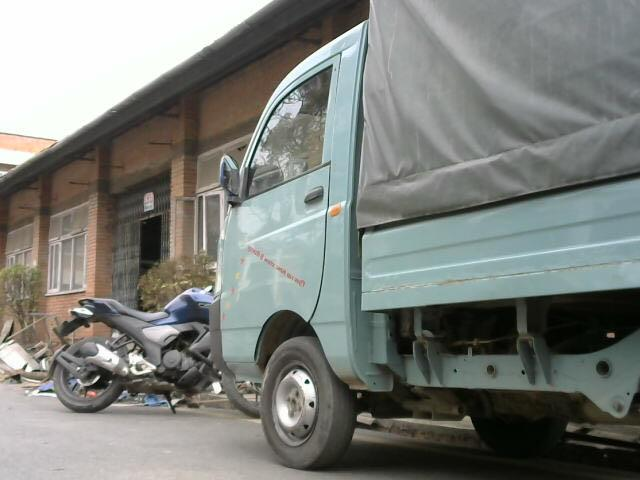Motorcycle: (191, 48, 640, 457), (32, 290, 227, 424)
